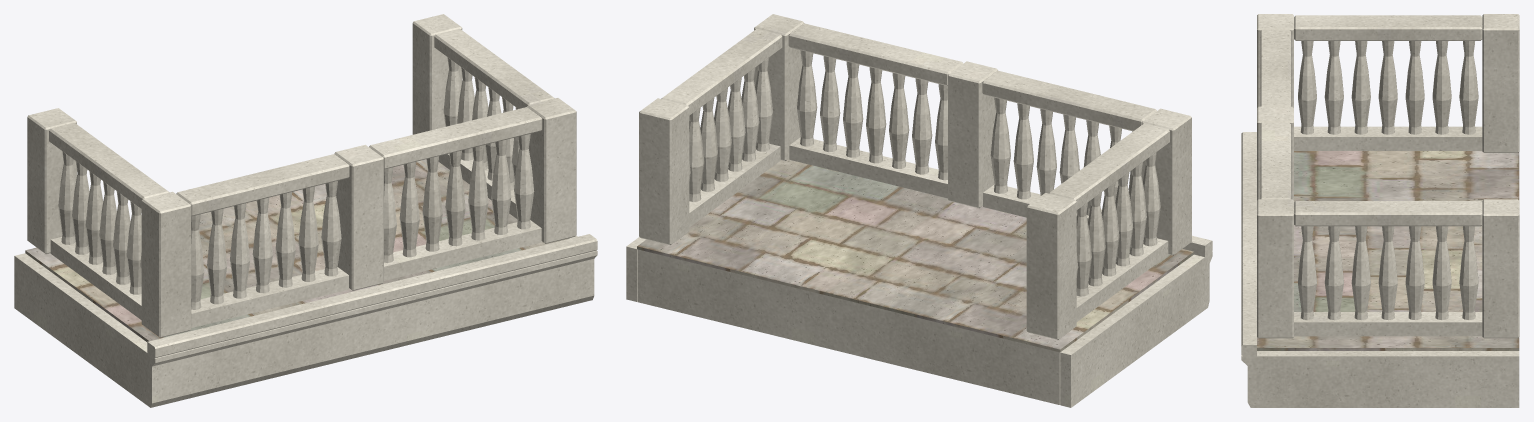
File: balcony.glb
The picture shows the model from 3 angles, left to right: view 1: azimuth 30°, elevation 25°; view 2: azimuth 150°, elevation 25°; view 3: azimuth 270°, elevation 25°; orthographic projection.
Visible parts, largest first — view 1: balcony_trim, balcony_stone2; view 2: balcony_trim, balcony_stone2; view 3: balcony_trim, balcony_stone2.
Boxes of the visible parts, x1,y1,x2,y2 form: balcony_trim: (14,14,597,407); balcony_stone2: (25,159,569,341); balcony_trim: (626,14,1212,407); balcony_stone2: (637,158,1193,352); balcony_trim: (1241,14,1519,407); balcony_stone2: (1257,151,1519,350).
Size of the model in its own units: 3.26 by 1.34 by 1.8.
2 materials, 2 textured.
